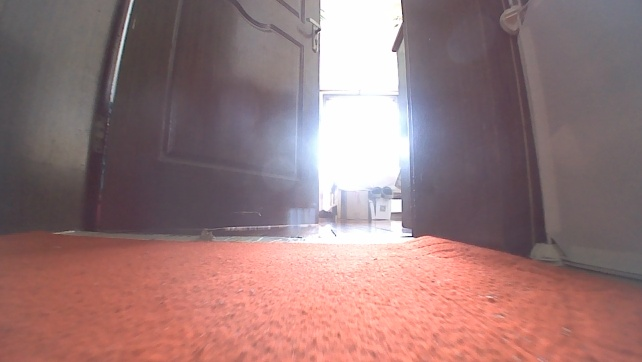blanket: (0, 226, 641, 361)
door_anno: (81, 0, 325, 237)
